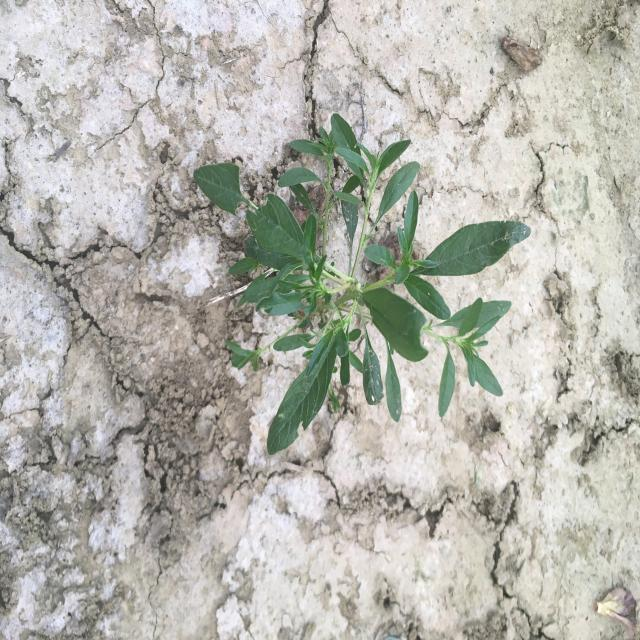Waterhemp: (191, 111, 533, 459)
